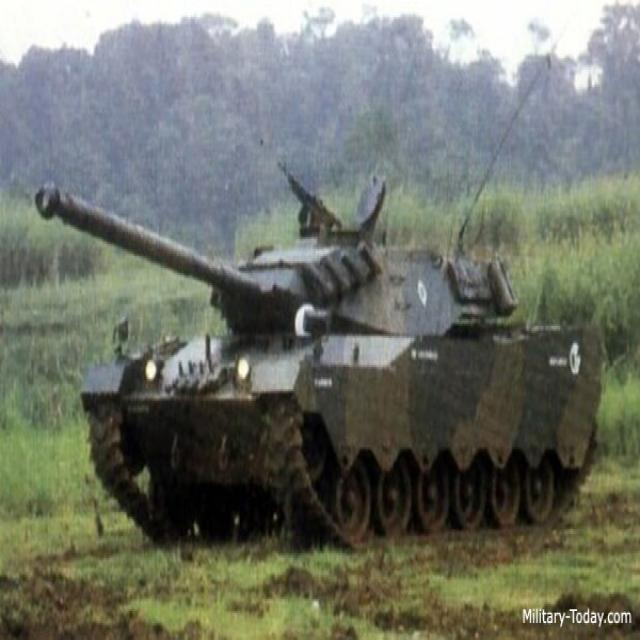Tank: (19, 134, 612, 547)
